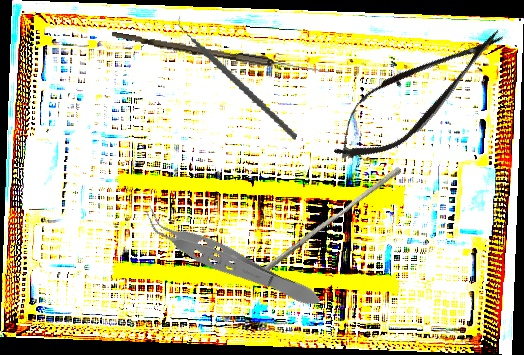Chopper: (158, 10, 318, 141)
Micro Scissor: (316, 7, 520, 180)
Pusher: (255, 161, 403, 284)
Surgical Spoon: (110, 31, 331, 77)
Tissue Forceps: (134, 203, 327, 317)
